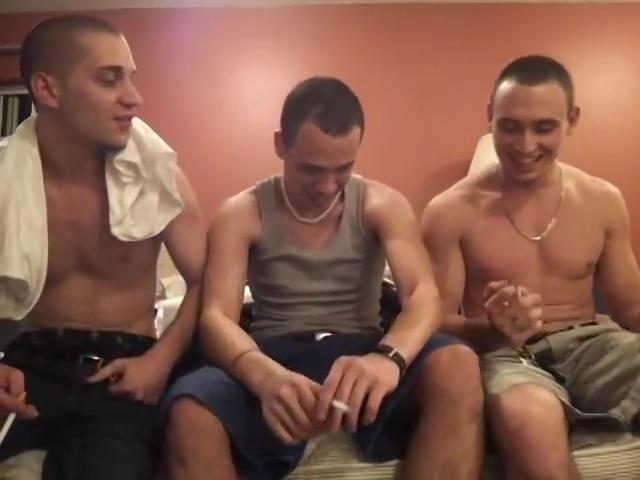cigarette: (0, 386, 28, 446), (328, 396, 356, 416), (514, 279, 524, 308)
